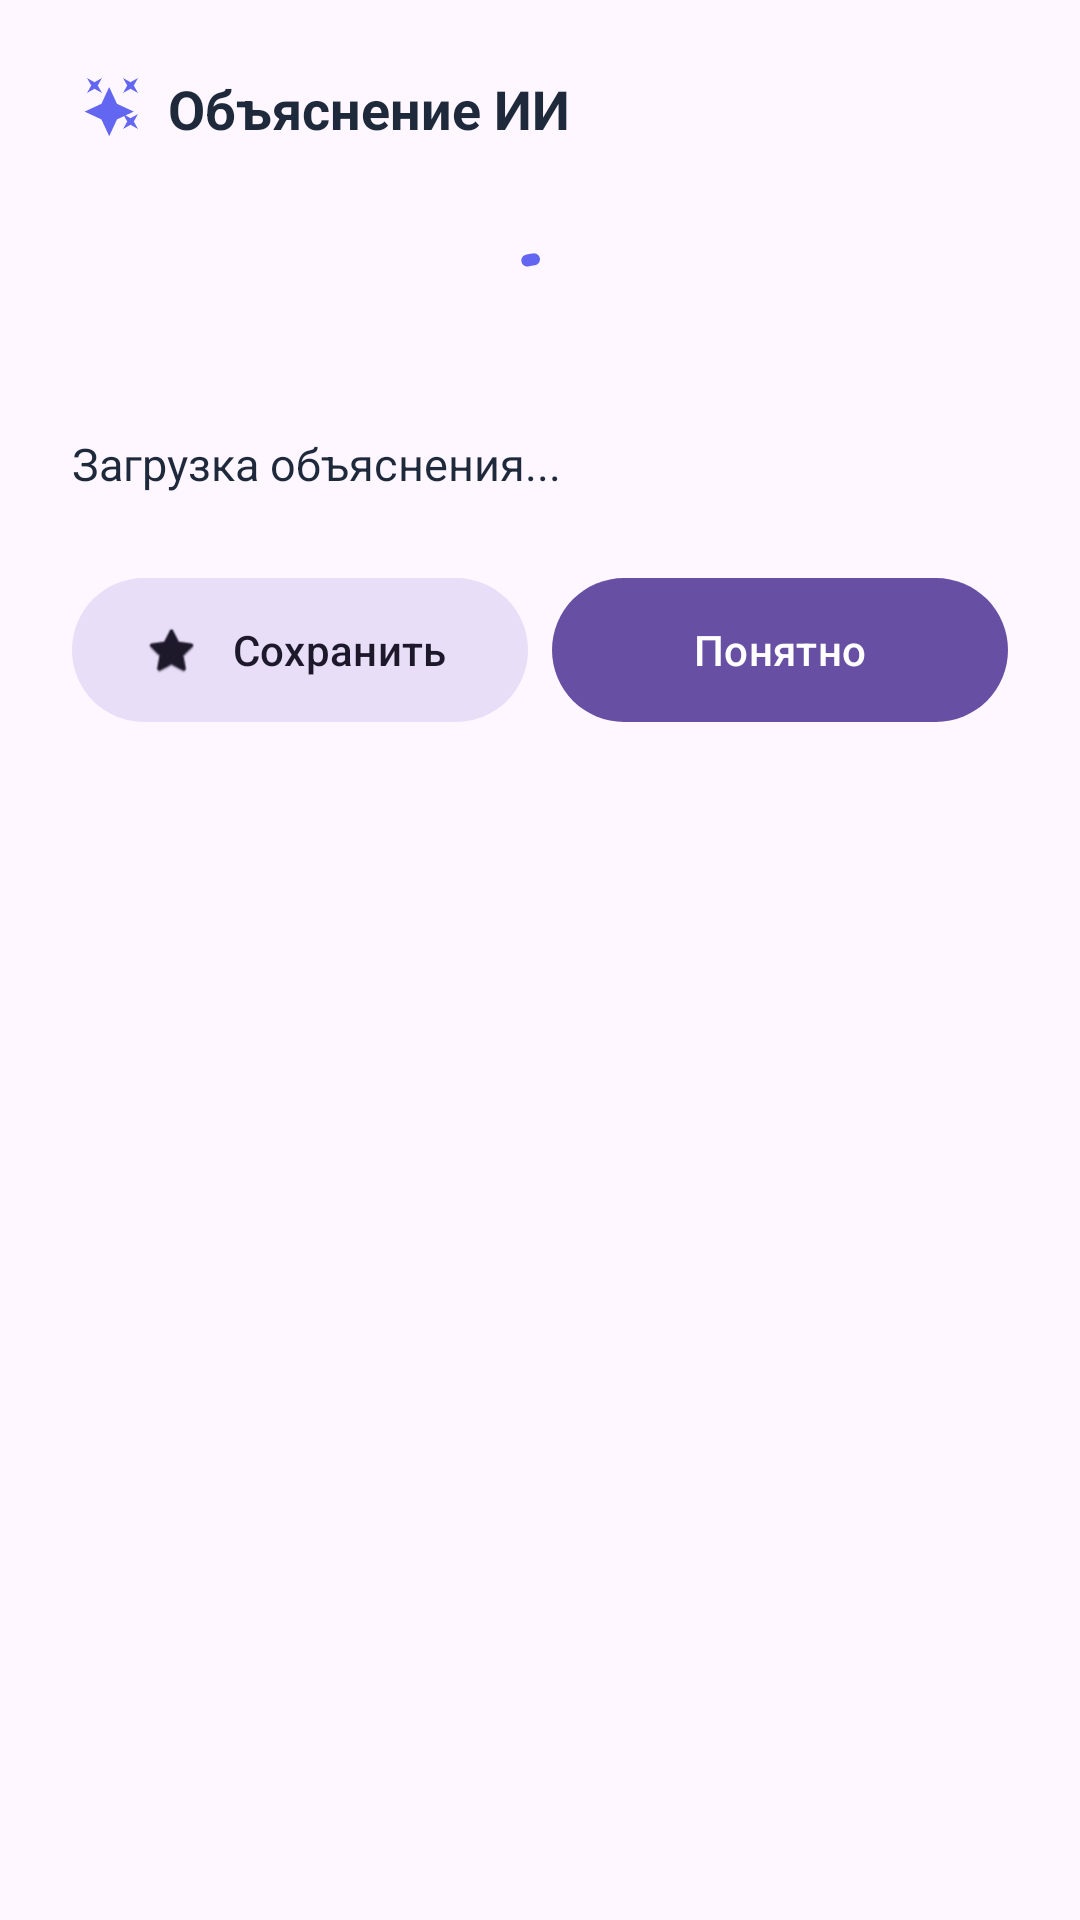

Screen size 1080*1920. Icon name, then its box in pixels as [x1, y1, x2, y2]:
ai stars: [85, 78, 138, 136]
